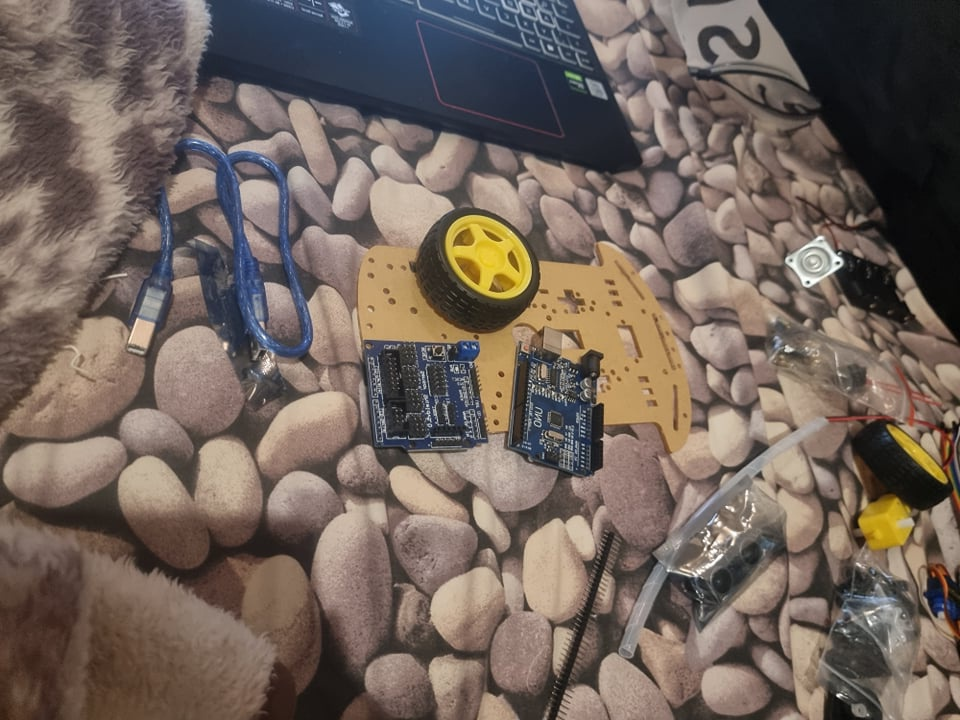5V EXPANSION: (361, 338, 487, 452)
BATTERY BOX: (835, 251, 921, 319)
SENSOR: (696, 532, 765, 609)
UNO R3: (505, 329, 607, 469)
